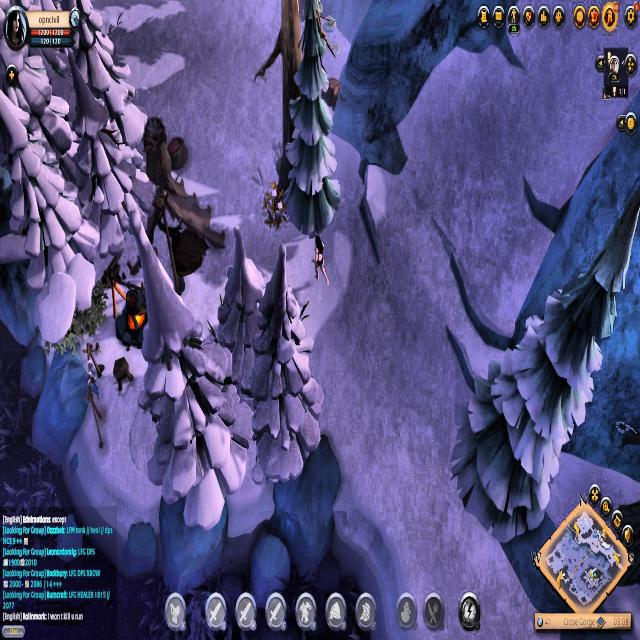cotton: (262, 184, 296, 236)
